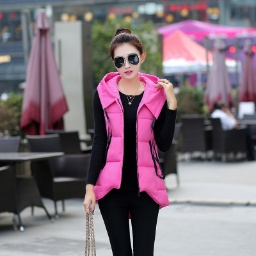face: (104, 27, 148, 80)
